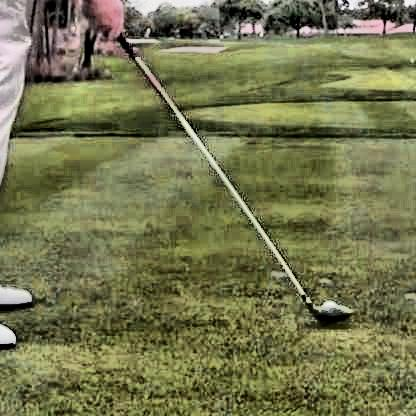golfball: (315, 297, 343, 320)
